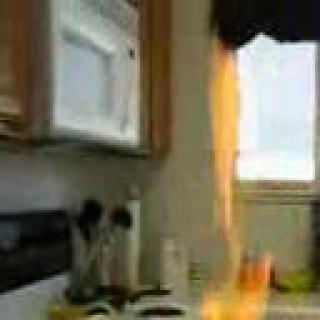fire: (166, 256, 314, 320), (204, 42, 248, 223)
